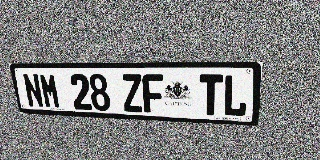2: (69, 74, 92, 110)
8: (88, 74, 111, 111)
F: (142, 74, 164, 113)
L: (223, 75, 249, 117)
M: (39, 73, 61, 109)
N: (22, 73, 45, 108)
T: (199, 74, 223, 116)
Z: (121, 74, 144, 112)
